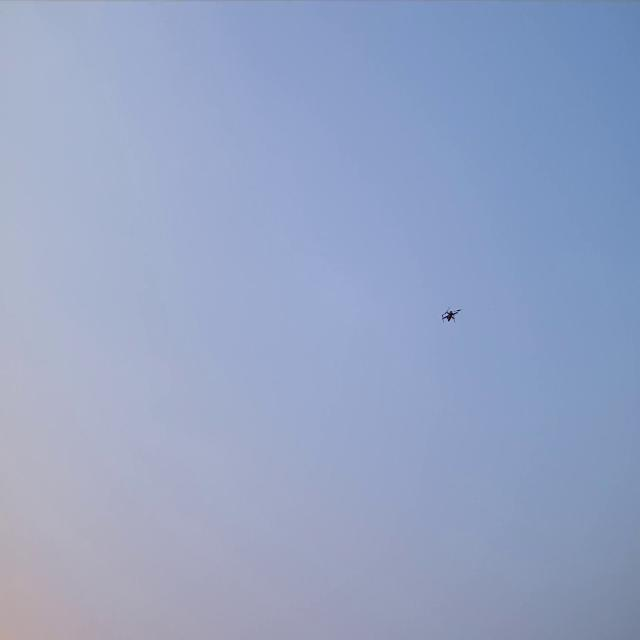UAV: (440, 305, 462, 325)
